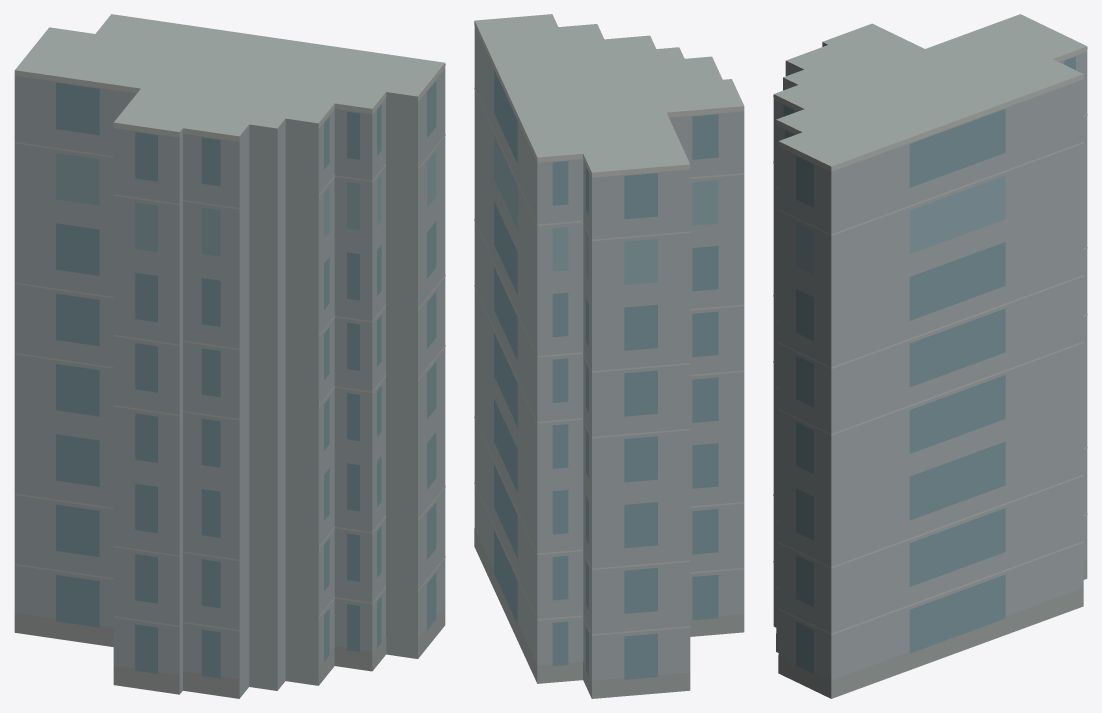
File: survey-upis-32930595.glb
The picture shows the model from 3 angles, left to right: view 1: azimuth 30°, elevation 25°; view 2: azimuth 150°, elevation 25°; view 3: azimuth 270°, elevation 25°; orthographic projection. The views are drawn at different scales.
Parts seen in each view (by area): view 1: survey-upis-32930595.tmp; view 2: survey-upis-32930595.tmp; view 3: survey-upis-32930595.tmp.
Part boxes in pixels (x1,y1,x2,y2): survey-upis-32930595.tmp: (14,14,445,698); survey-upis-32930595.tmp: (474,14,744,698); survey-upis-32930595.tmp: (773,14,1087,698).
Size of the model in its own units: 15.33 by 24.9 by 13.32.
